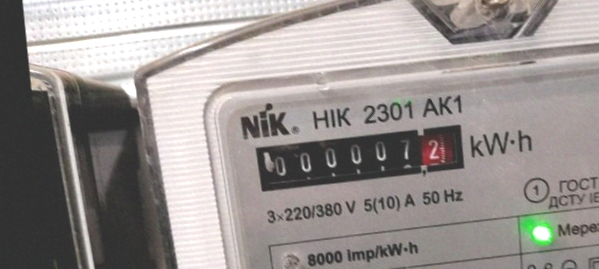0: (271, 152, 288, 177), (372, 137, 388, 162), (348, 141, 364, 165), (323, 144, 338, 169), (297, 149, 312, 172)
2: (425, 136, 441, 160)
7: (398, 135, 413, 160)
screen: (243, 112, 476, 200)
